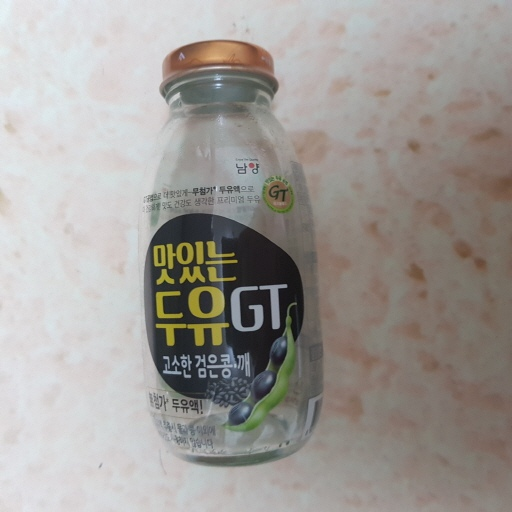Glass_4: (135, 37, 328, 469)
